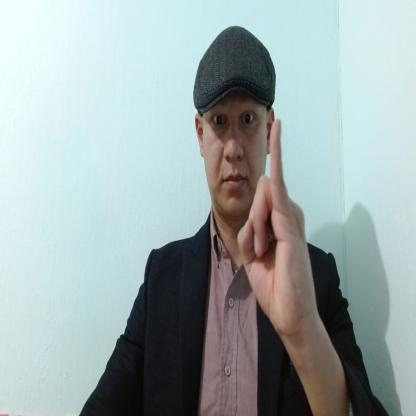I: (237, 119, 315, 332)
